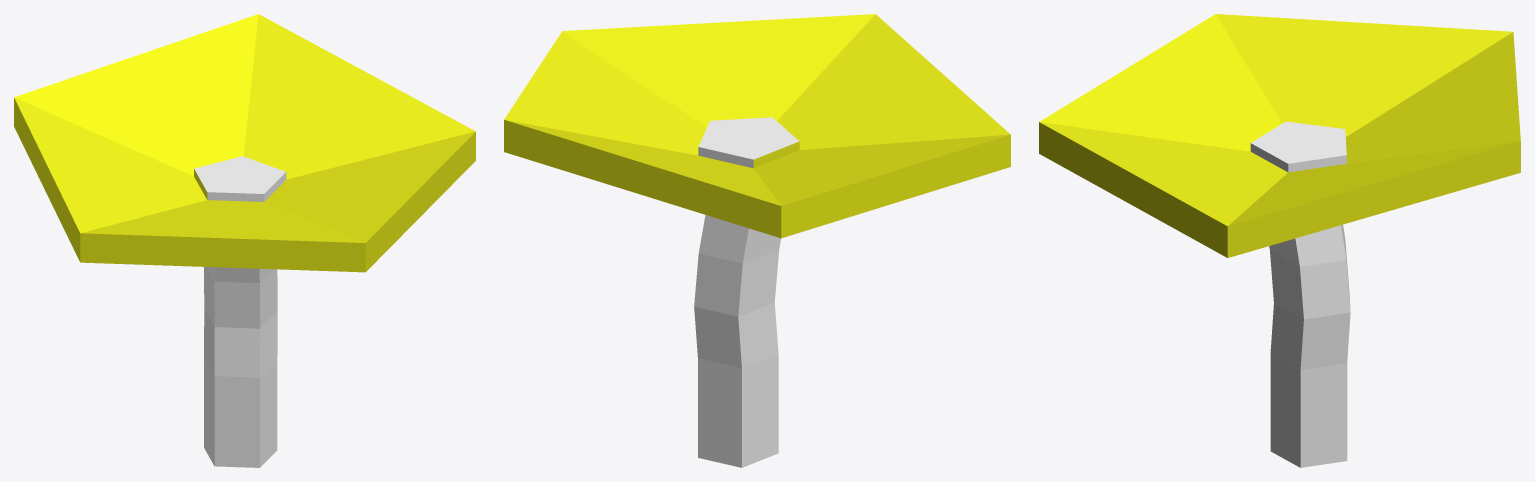
Rendered from pl_flower.FBX.
The picture shows the model from 3 angles, left to right: view 1: azimuth 30°, elevation 25°; view 2: azimuth 150°, elevation 25°; view 3: azimuth 270°, elevation 25°; orthographic projection. The views are drawn at different scales.
Parts seen in each view (by area): view 1: Cylinder737; view 2: Cylinder737; view 3: Cylinder737.
Boxes of the visible parts, x1,y1,x2,y2 form: Cylinder737: (14,14,475,467); Cylinder737: (504,14,1010,467); Cylinder737: (1039,14,1520,467).
Bounding box in the file's own units: 3.61 × 2.94 × 3.46.
